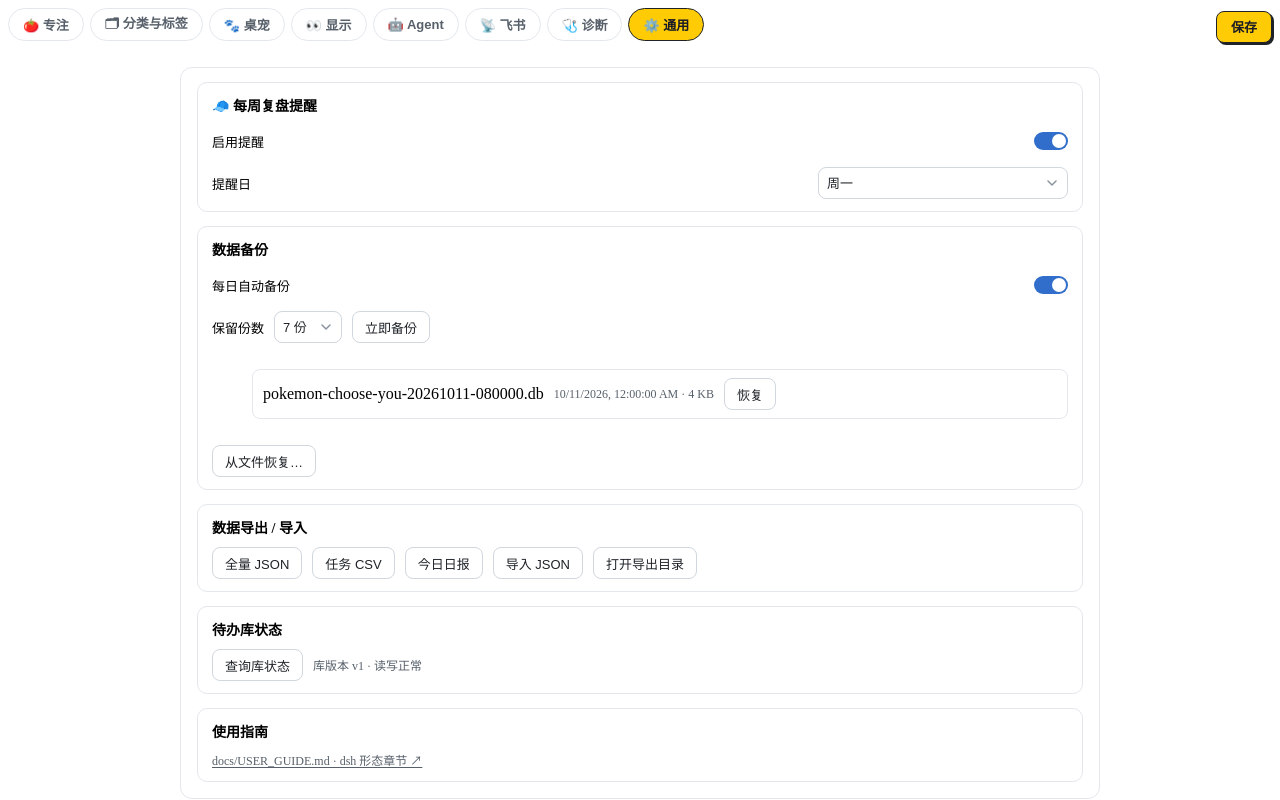
RestoreConfirmModal（备份卡恢复升级） › 行内恢复：二次确认 → 成功（补跑迁移与补种说明）；restoreRun 带 backupId
Click the button with test id "backup-restore". click: click(750, 394)
box: [724,378,776,410]
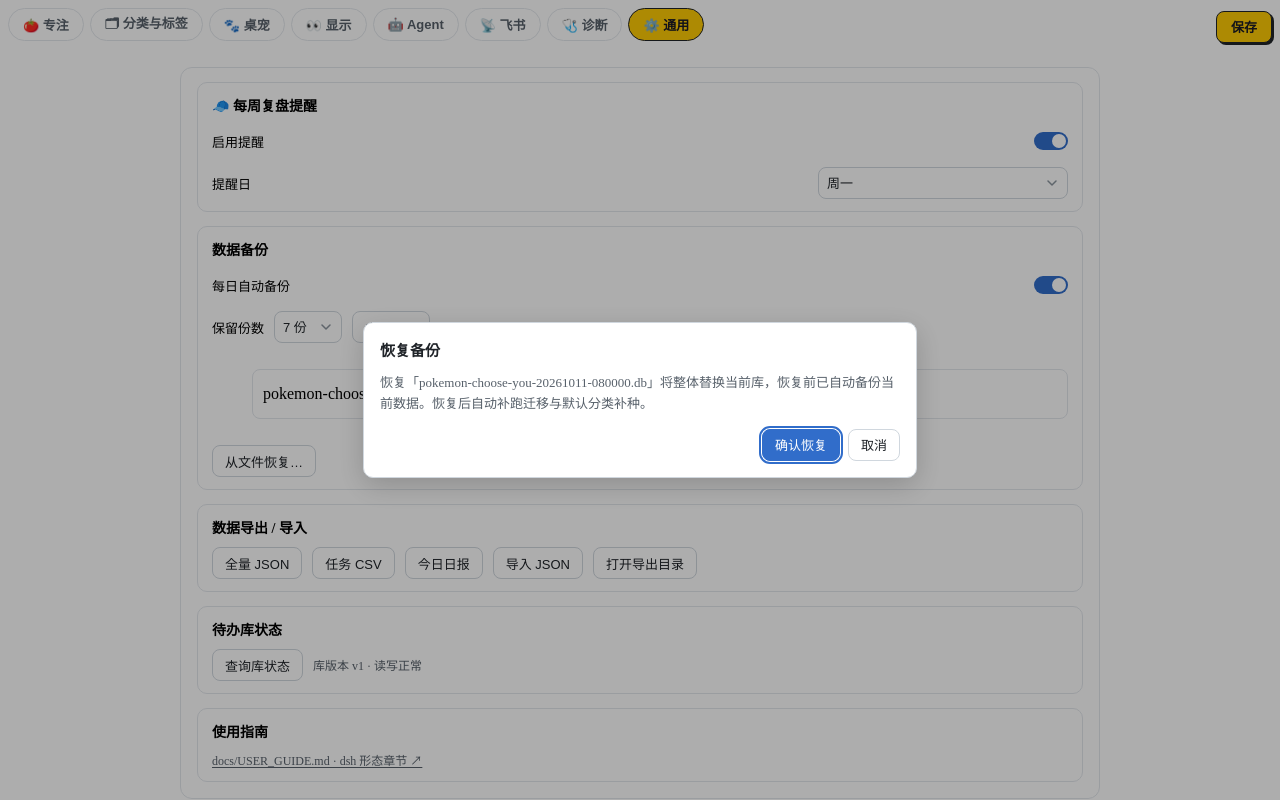
Check: the element with test id "restore-modal" shows "恢复「pokemon-choose-you-20261011-080000.db」将整体替换当前库", box [380,375,894,411]
Check: the element with test id "restore-modal" shows "恢复前已自动备份当前数据", box [380,375,894,411]
Click the button "确认恢复". click: click(801, 445)
box: [762,429,840,461]
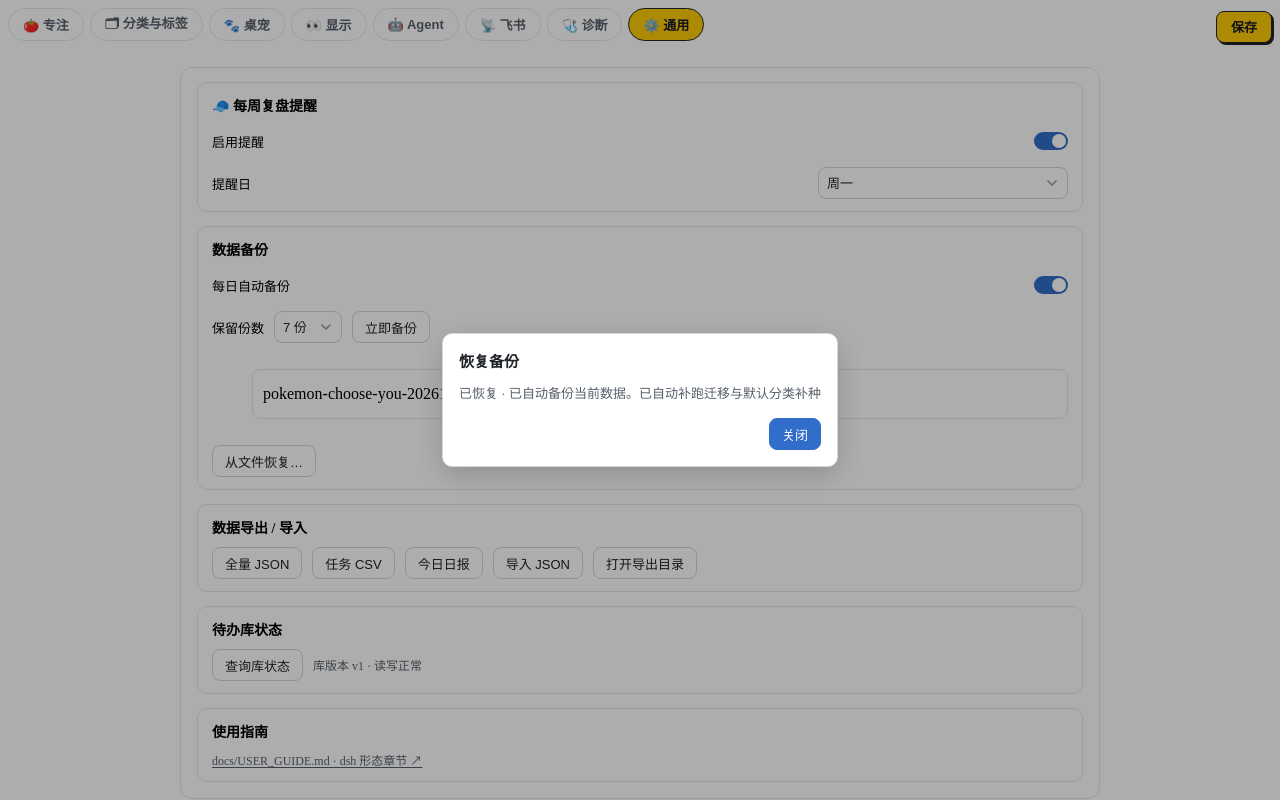
Check: the message with test id "restore-done" shows "已自动补跑迁移与默认分类补种", box [459,386,821,401]
